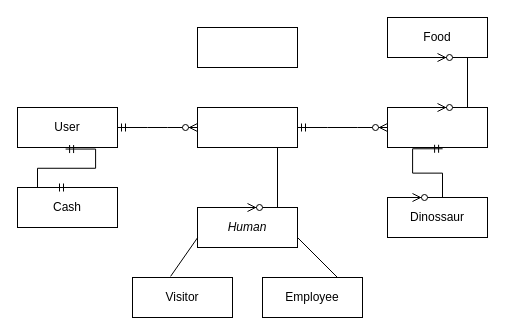
Image size: 505x335. Some labels were removed from this diagram. The shapes that lost their labels are listed below. From the top down, each one's centre as x and y in pixels, then its label:
At [247,47]: "ParkEvent".
At [247,127]: "Zoo".
At [437,127]: "Enclosure".
